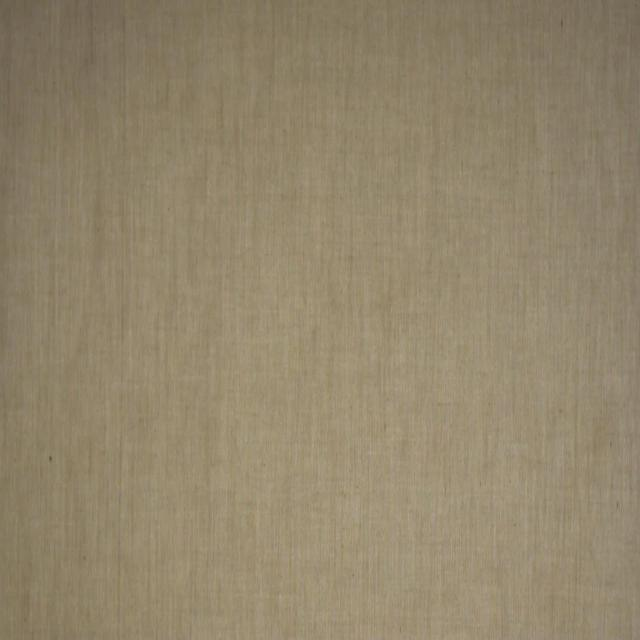dirty: (592, 422, 604, 468), (49, 456, 53, 463)
